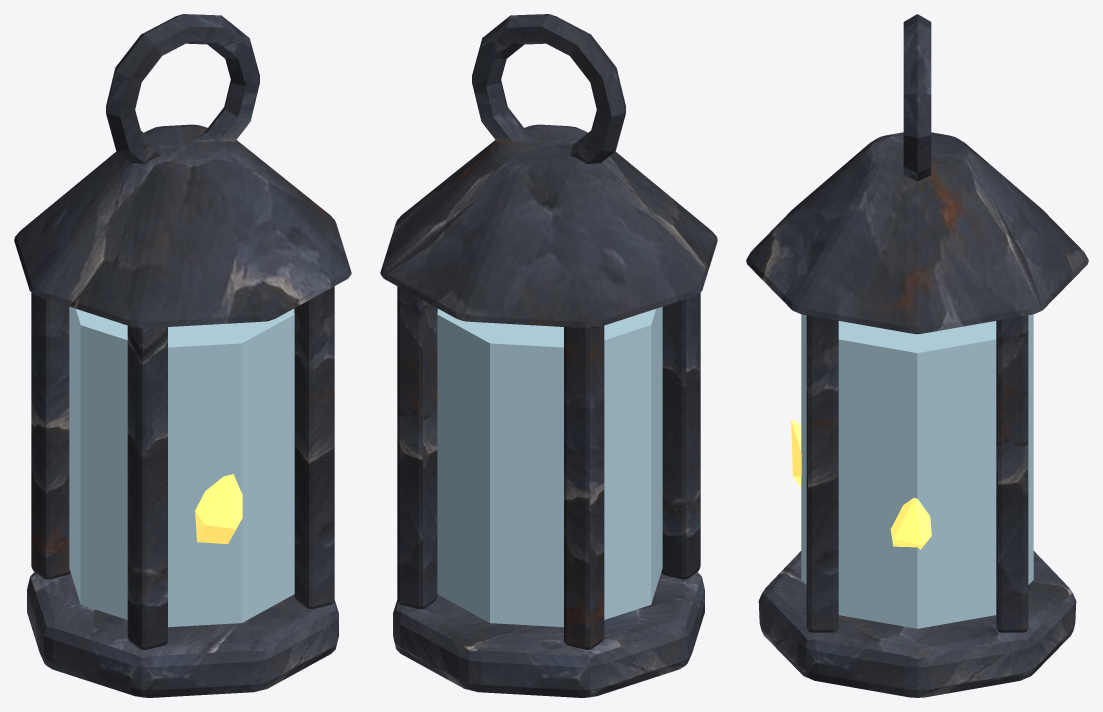
File: lantern.glb
3 renders of one model, left to right at view 1: azimuth 30°, elevation 25°; view 2: azimuth 150°, elevation 25°; view 3: azimuth 270°, elevation 25°, orthographic.
Parts seen in each view (by area): view 1: model; view 2: model; view 3: model.
Part boxes in pixels (x1,y1,x2,y2): model: (14, 14, 351, 697); model: (380, 14, 717, 697); model: (746, 14, 1088, 697).
Bounding box in the file's own units: 0.1916 × 0.379 × 0.1916.
4 materials, 2 textured.
